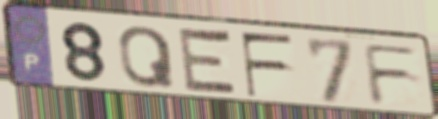7: (302, 34, 356, 106)
8: (59, 20, 109, 85)
E: (177, 24, 242, 100)
F: (238, 31, 297, 100), (360, 42, 423, 106)
Q: (117, 24, 178, 90)
